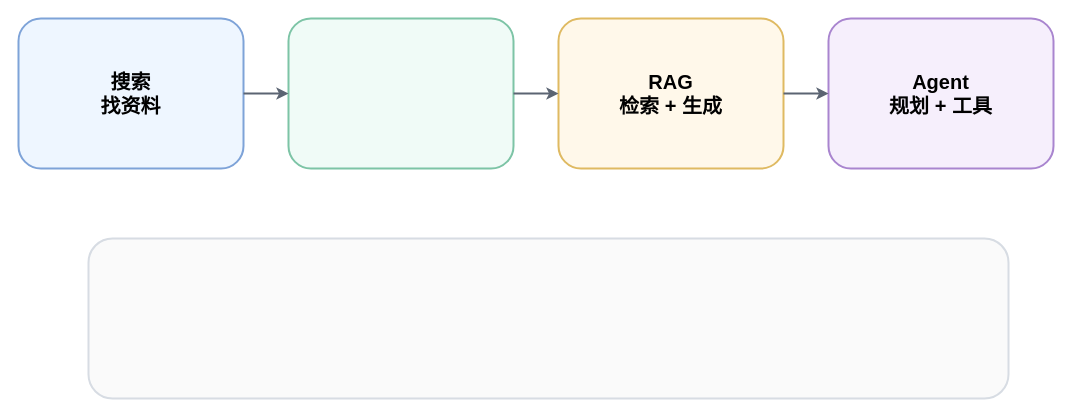
The diagram is 1071 pixels wide and 416 high, and some of its shapes have lost their labels. The shapes that lost their labels are listed below. From the top down, each one's centre as x and y in pixels, then its label:
(x=400, y=93): 知识库问答 围绕知识范围回答
(x=548, y=318): 职责边界
